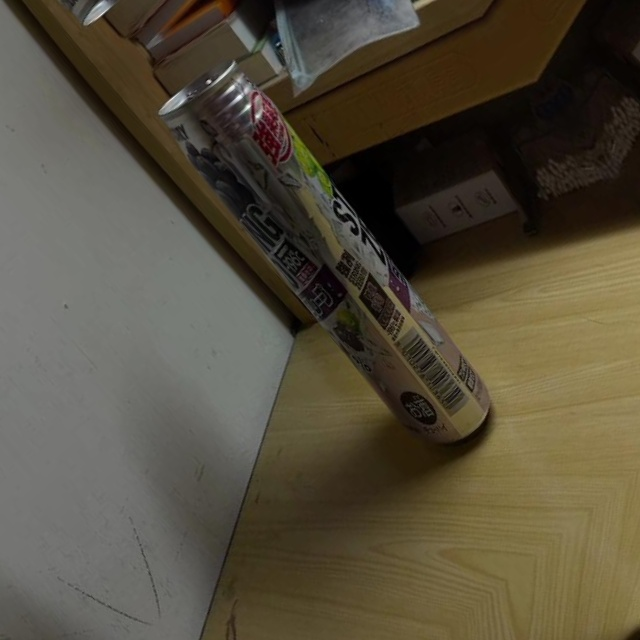Liquor: (143, 47, 524, 472)
